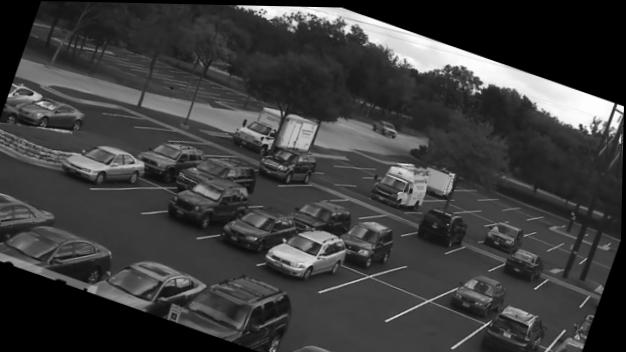empty: (320, 272, 416, 317), (401, 301, 484, 342), (94, 183, 176, 215), (391, 259, 459, 294), (533, 273, 592, 308), (523, 297, 566, 327), (331, 193, 384, 217), (450, 244, 502, 268), (284, 181, 341, 198), (372, 207, 416, 229), (119, 115, 173, 130), (545, 244, 587, 262), (560, 237, 597, 255), (249, 189, 290, 205), (455, 209, 494, 225), (533, 225, 568, 242), (579, 257, 612, 274), (339, 165, 385, 177), (189, 141, 234, 153), (150, 130, 199, 141), (476, 203, 510, 218), (524, 233, 557, 248), (508, 216, 541, 230), (532, 212, 567, 225), (462, 219, 487, 237), (449, 194, 483, 207), (427, 198, 465, 209), (590, 249, 616, 263), (506, 204, 538, 215), (538, 251, 559, 267), (484, 196, 513, 206), (460, 188, 491, 197), (605, 239, 621, 251)
occupied: (162, 273, 296, 352), (82, 260, 211, 314), (0, 226, 111, 282), (264, 226, 351, 285), (216, 203, 298, 254), (173, 177, 249, 230), (474, 303, 550, 352), (61, 146, 146, 184), (447, 272, 507, 317), (259, 142, 317, 186), (371, 163, 429, 207), (0, 187, 54, 234), (141, 142, 203, 182), (343, 221, 395, 267), (17, 96, 85, 131), (414, 206, 469, 247), (186, 156, 256, 187), (292, 200, 354, 232), (503, 246, 546, 281), (485, 221, 525, 252), (554, 329, 587, 352), (291, 338, 341, 352), (579, 314, 595, 339)
